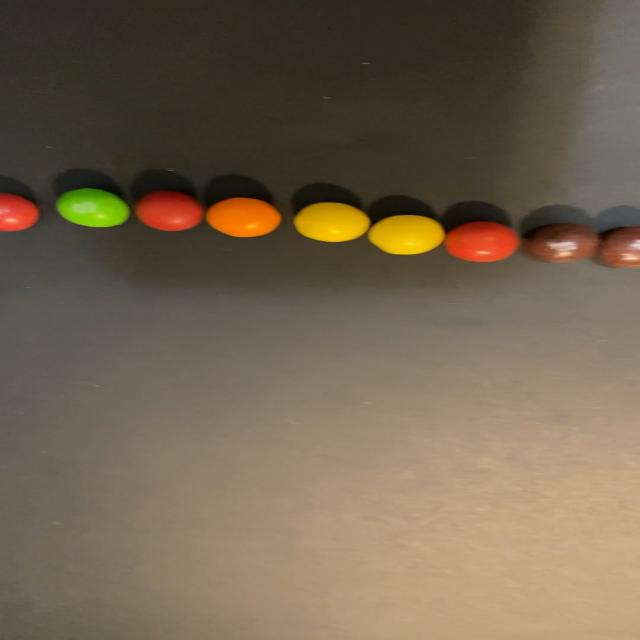smartie: (444, 221, 519, 262), (367, 215, 445, 254), (293, 202, 369, 242), (205, 197, 280, 237), (524, 223, 599, 262), (55, 188, 128, 227), (134, 190, 202, 231), (599, 226, 640, 268), (0, 193, 37, 231)
